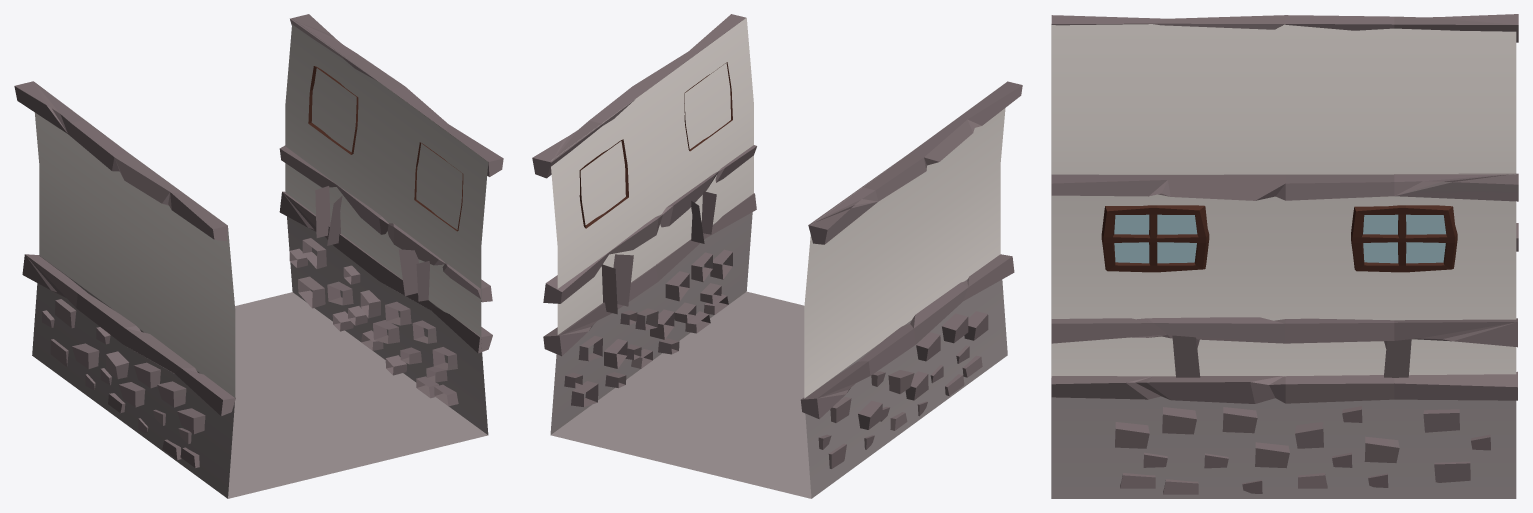
The model's file is SM_L_R_Home_Base.fbx.
3 renders of one model, left to right at view 1: azimuth 30°, elevation 25°; view 2: azimuth 150°, elevation 25°; view 3: azimuth 270°, elevation 25°, orthographic. The views are drawn at different scales.
Visible parts, largest first — view 1: SM_L_R_Home_Base; view 2: SM_L_R_Home_Base; view 3: SM_L_R_Home_Base.
Boxes of the visible parts, x1=… form: SM_L_R_Home_Base: x1=14, y1=14, x2=503, y2=498; SM_L_R_Home_Base: x1=532, y1=14, x2=1022, y2=498; SM_L_R_Home_Base: x1=1051, y1=14, x2=1518, y2=498.
Size of the model in its own units: 3.41 by 3.01 by 3.92.
1 material, 1 textured.
